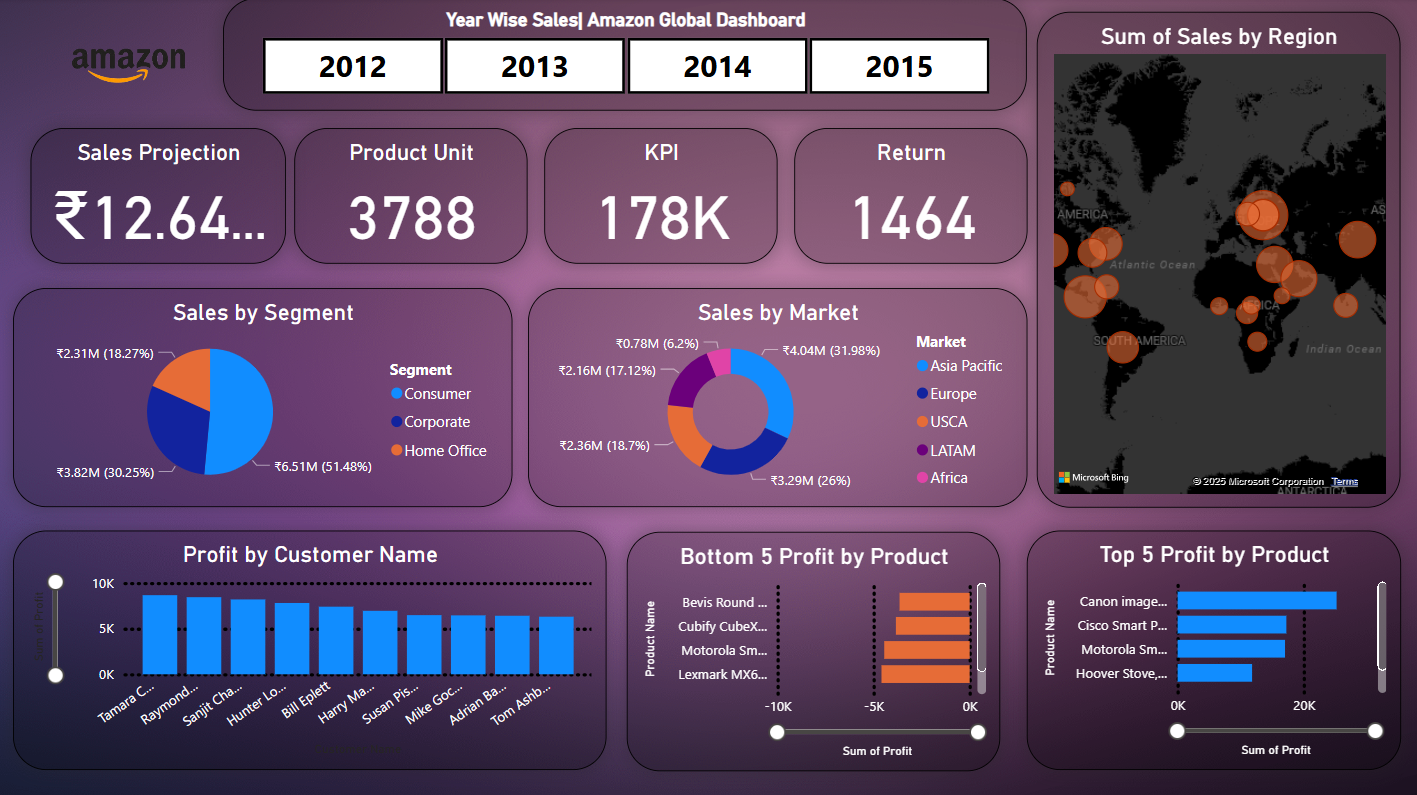

Layout of this report page (visuals, bound fields, positions):
{"tool":"powerbi","page":{"name":"Report1","canvas":[1280,720],"ordinal":0},"visuals":[{"type":"slicer","title":"Year Wise Sales| Amazon Global Dashboard","fields":{"Values":["Orders.year"]},"box":[202.5,0,725,101.2],"z":0},{"type":"card","title":"Sales Projection","fields":{"Values":["Orders.Sales"]},"box":[28.8,117.5,230,122.5],"z":1000},{"type":"image","box":[0,0,230,117.5],"z":2000},{"type":"card","title":"Product Unit","fields":{"Values":["Orders.Product Name"]},"box":[267.5,117.5,210,122.5],"z":3000},{"type":"card","title":"KPI","fields":{"Values":["Orders.Quantity"]},"box":[492.5,117.5,210,122.5],"z":4000},{"type":"card","title":"Return ","fields":{"Values":["Orders.Ship Date"]},"box":[717.5,117.5,210,122.5],"z":5000},{"type":"pieChart","title":"Sales by Segment","fields":{"Y":["Orders.Sales"],"Category":["Orders.Segment"]},"box":[13.8,261.2,450,197.5],"z":6000},{"type":"donutChart","title":" Sales by Market","fields":{"Y":["Orders.Sales"],"Category":["Orders.Market"]},"box":[477.5,261.2,450,197.5],"z":7000},{"type":"columnChart","title":"Profit by Customer Name","fields":{"Category":["Orders.Customer Name"],"Y":["Orders.Profit"]},"box":[13.8,480,535,216.2],"z":8000},{"type":"clusteredBarChart","title":"Bottom 5 Profit by Product ","fields":{"Category":["Orders.Product Name"],"Y":["Orders.Profit"]},"box":[567.5,481.2,337,216.2],"z":9000},{"type":"clusteredBarChart","title":"Top 5 Profit by Product","fields":{"Category":["Orders.Product Name"],"Y":["Orders.Profit"]},"box":[927.5,480,337.5,216.2],"z":10000},{"type":"map","fields":{"Category":["Orders.Region"],"Size":["Orders.Sales"]},"box":[936.7,12.2,327.7,447.6],"z":11000}]}

Visuals, with their boxes in screenshot pixels (x1, y1, x2, y2), scaled from the page's 1280x720 canvas onto the 1417x795 screenshot:
"Year Wise Sales| Amazon Global Dashboard" slicer: box(224, 0, 1027, 112)
"Sales Projection" card: box(32, 130, 286, 265)
image: box(0, 0, 255, 130)
"Product Unit" card: box(296, 130, 529, 265)
"KPI" card: box(545, 130, 778, 265)
"Return " card: box(794, 130, 1027, 265)
"Sales by Segment" pieChart: box(15, 288, 513, 506)
" Sales by Market" donutChart: box(529, 288, 1027, 506)
"Profit by Customer Name" columnChart: box(15, 530, 608, 769)
"Bottom 5 Profit by Product " clusteredBarChart: box(628, 531, 1001, 770)
"Top 5 Profit by Product" clusteredBarChart: box(1027, 530, 1400, 769)
map - Orders.Region x Orders.Sales: box(1037, 13, 1400, 508)
